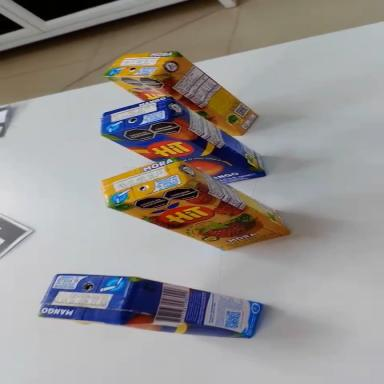HIT-MANGO: (94, 72, 274, 219), (38, 269, 264, 341)
HIT-MORA: (94, 136, 300, 273), (104, 26, 264, 160)
cara_F: (107, 160, 298, 271), (102, 96, 266, 216), (105, 54, 240, 158)
